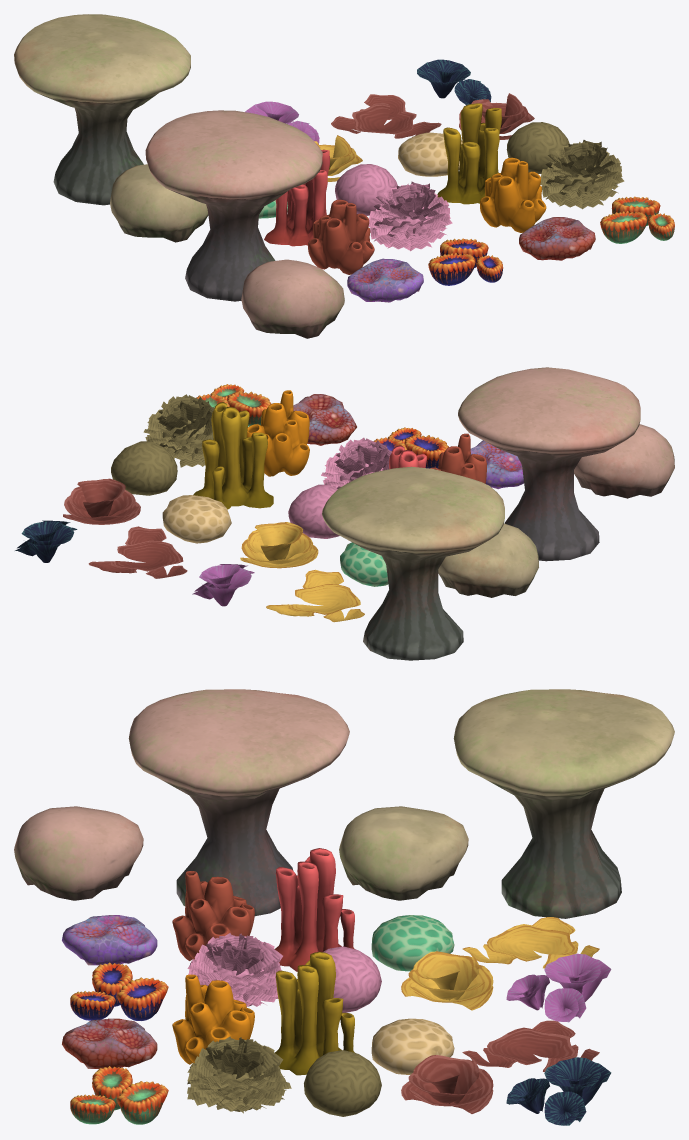
The model's file is Corales.fbx.
3 views of the same model, one above another, from view 1: azimuth 30°, elevation 25°; view 2: azimuth 150°, elevation 25°; view 3: azimuth 270°, elevation 25° (orthographic). The views are drawn at different scales.
Visible parts, largest first — view 1: Coral02_low, Coral02_low1, Coral01_low, Coral01_low1, coral11, coral14, coral23, coral19, coral10, coral25, coral17, coral20 (+10 smaller); view 2: Coral02_low1, Coral02_low, coral11, Coral01_low, Coral01_low1, coral14, coral10, coral15, coral16, coral28, coral17, coral24 (+12 smaller); view 3: Coral02_low1, Coral02_low, Coral01_low, Coral01_low1, coral11, coral25, coral14, coral23, coral19, coral10, coral18, coral21 (+12 smaller).
Part boxes in pixels (bbox=[...]): Coral02_low: bbox=[145, 110, 322, 301]; Coral02_low1: bbox=[14, 14, 190, 205]; Coral01_low: bbox=[241, 259, 344, 338]; Coral01_low1: bbox=[110, 164, 208, 242]; coral11: bbox=[437, 103, 501, 204]; coral14: bbox=[540, 140, 624, 209]; coral23: bbox=[368, 181, 452, 251]; coral19: bbox=[308, 199, 374, 274]; coral10: bbox=[480, 157, 546, 232]; coral25: bbox=[264, 149, 329, 246]; coral17: bbox=[331, 94, 441, 138]; coral20: bbox=[347, 258, 423, 302]; Coral02_low1: bbox=[322, 466, 504, 660]; Coral02_low: bbox=[458, 367, 640, 561]; coral11: bbox=[193, 402, 273, 509]; Coral01_low: bbox=[574, 424, 674, 498]; Coral01_low1: bbox=[438, 523, 538, 597]; coral14: bbox=[143, 394, 214, 467]; coral10: bbox=[247, 390, 309, 476]; coral15: bbox=[111, 441, 177, 495]; coral16: bbox=[63, 478, 140, 524]; coral28: bbox=[240, 522, 318, 568]; coral17: bbox=[88, 526, 187, 578]; coral24: bbox=[266, 569, 364, 622]; Coral02_low1: bbox=[453, 689, 674, 918]; Coral02_low: bbox=[128, 689, 349, 916]; Coral01_low: bbox=[14, 806, 143, 900]; Coral01_low1: bbox=[339, 806, 468, 900]; coral11: bbox=[274, 951, 354, 1075]; coral25: bbox=[274, 848, 355, 971]; coral14: bbox=[187, 1036, 291, 1113]; coral23: bbox=[187, 933, 282, 1006]; coral19: bbox=[172, 871, 254, 960]; coral10: bbox=[172, 974, 254, 1064]; coral18: bbox=[506, 1057, 611, 1125]; coral21: bbox=[506, 953, 611, 1022].
Size of the model in its own units: 25.9 by 8.27 by 25.9.
4 materials, 4 textured.
